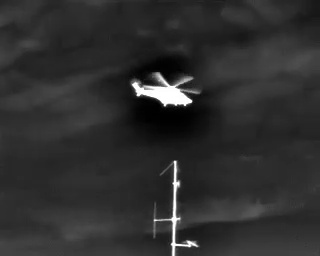HELICOPTER: (129, 67, 207, 115)
